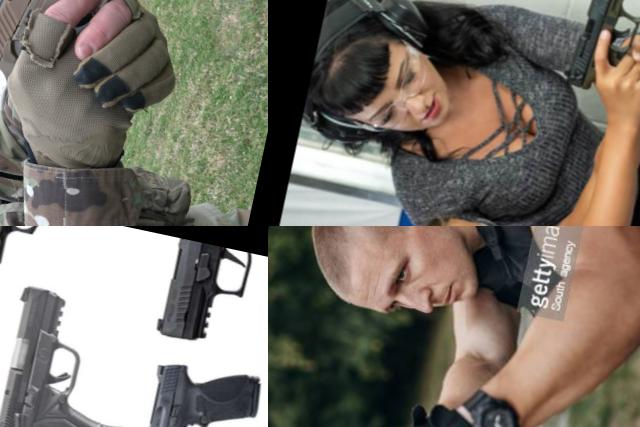handgun: (0, 278, 153, 427), (0, 0, 180, 119), (152, 235, 268, 360), (129, 350, 268, 427), (557, 0, 640, 108), (0, 226, 90, 298)
